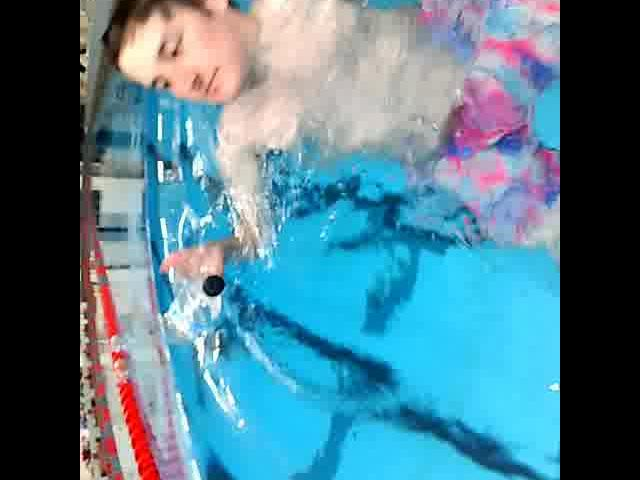Bottle: (158, 270, 232, 350)
